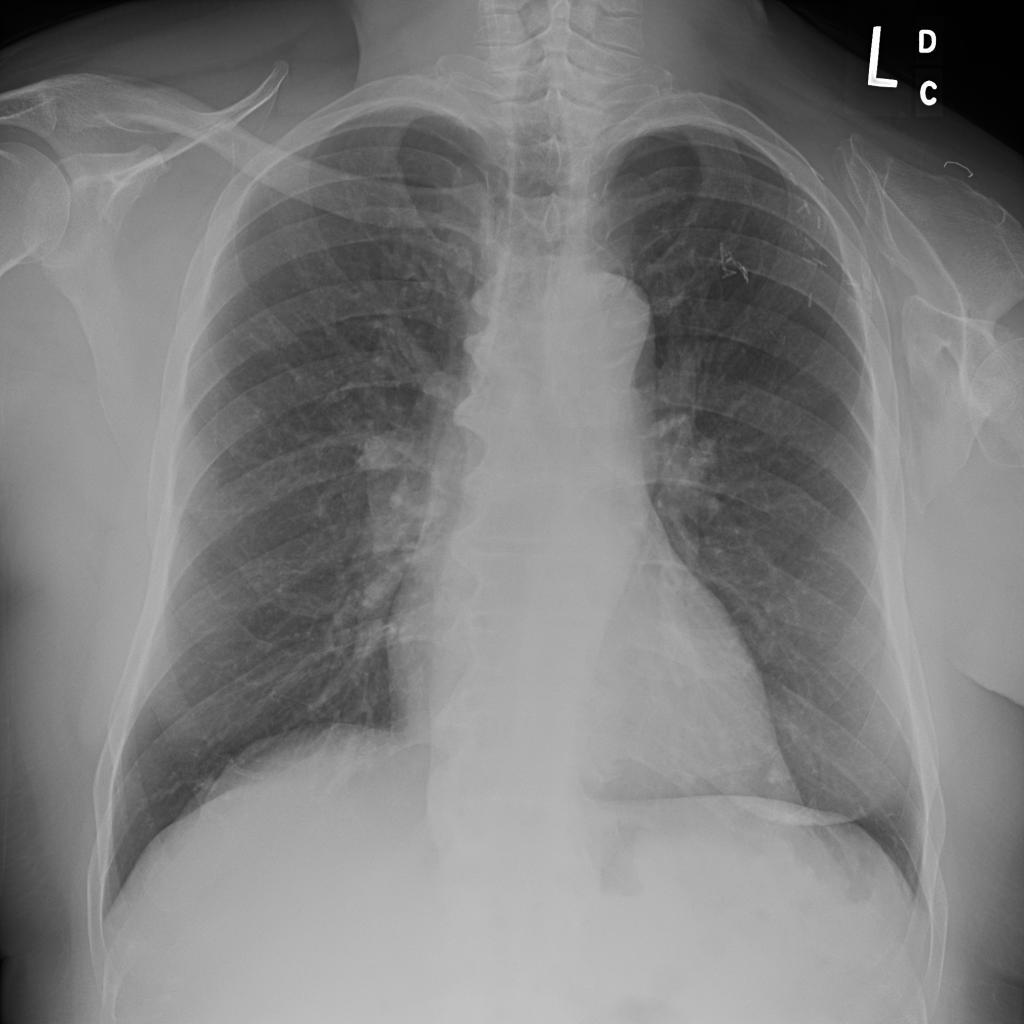Nodule: (62, 378, 116, 423), (409, 258, 441, 288)
